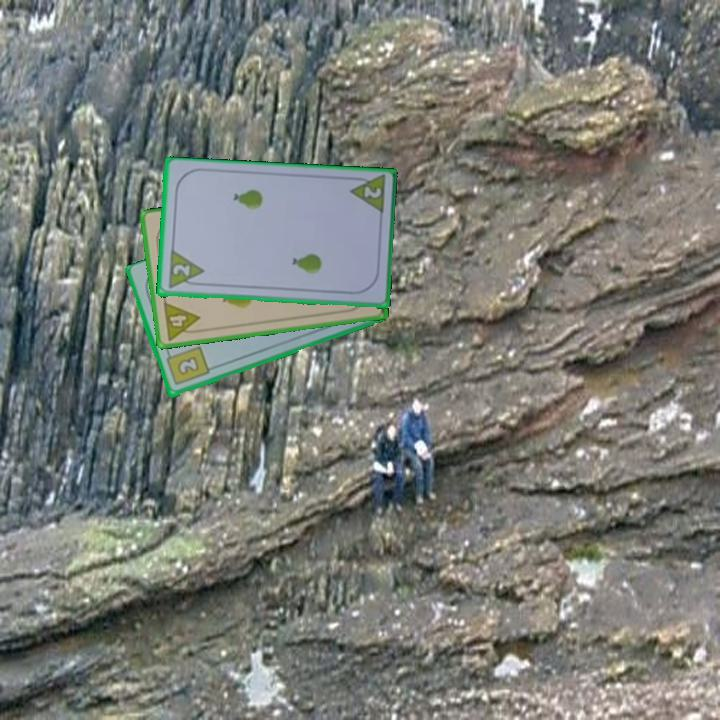2b: (162, 343, 212, 388)
2p: (346, 173, 388, 218), (164, 248, 206, 292)
4p: (160, 299, 204, 343)
